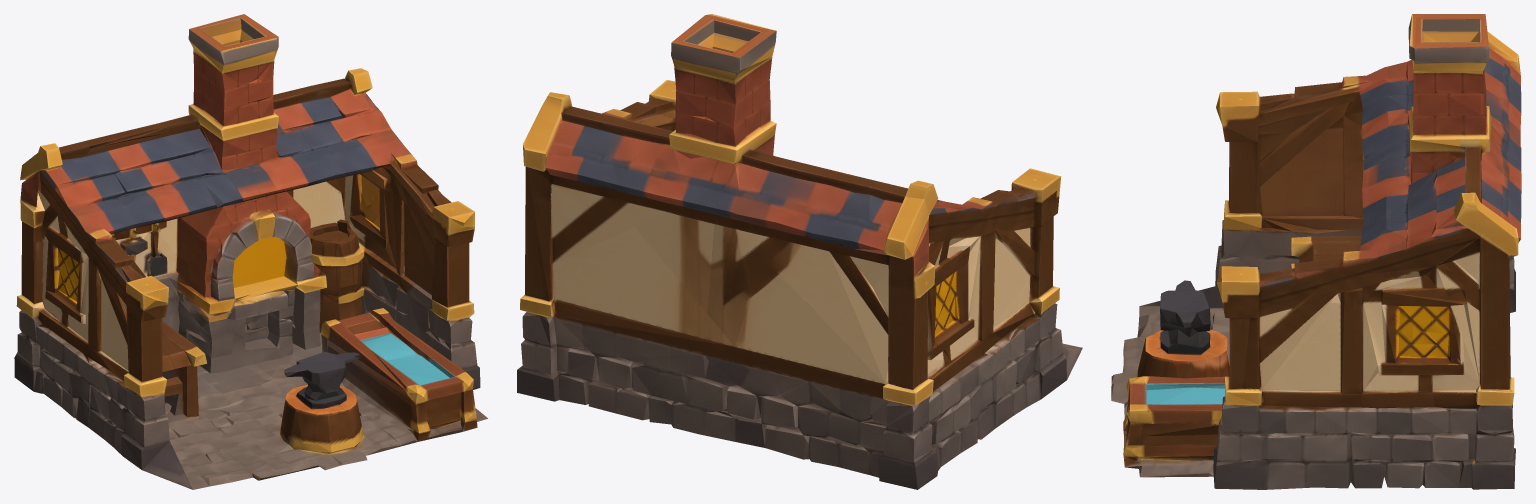
File: TWN_STR_forge_A.glb
3 views of the same model, side by side, from view 1: azimuth 30°, elevation 25°; view 2: azimuth 150°, elevation 25°; view 3: azimuth 270°, elevation 25° (orthographic). The views are drawn at different scales.
Parts seen in each view (by area): view 1: Mesh_0; view 2: Mesh_0; view 3: Mesh_0.
Boxes of the visible parts, x1,y1,x2,y2 form: Mesh_0: (14,14,487,489); Mesh_0: (517,14,1082,489); Mesh_0: (1111,14,1521,489).
Bounding box in the file's own units: 1.9 × 1.72 × 1.69.
1 material, 1 textured.
